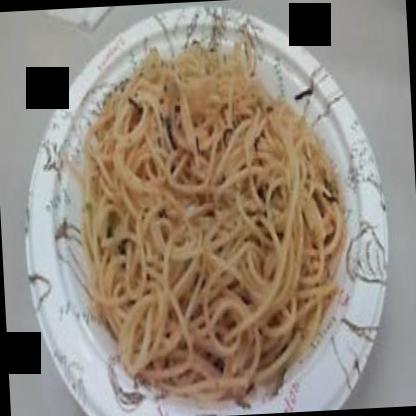pasta: (64, 41, 350, 402)
